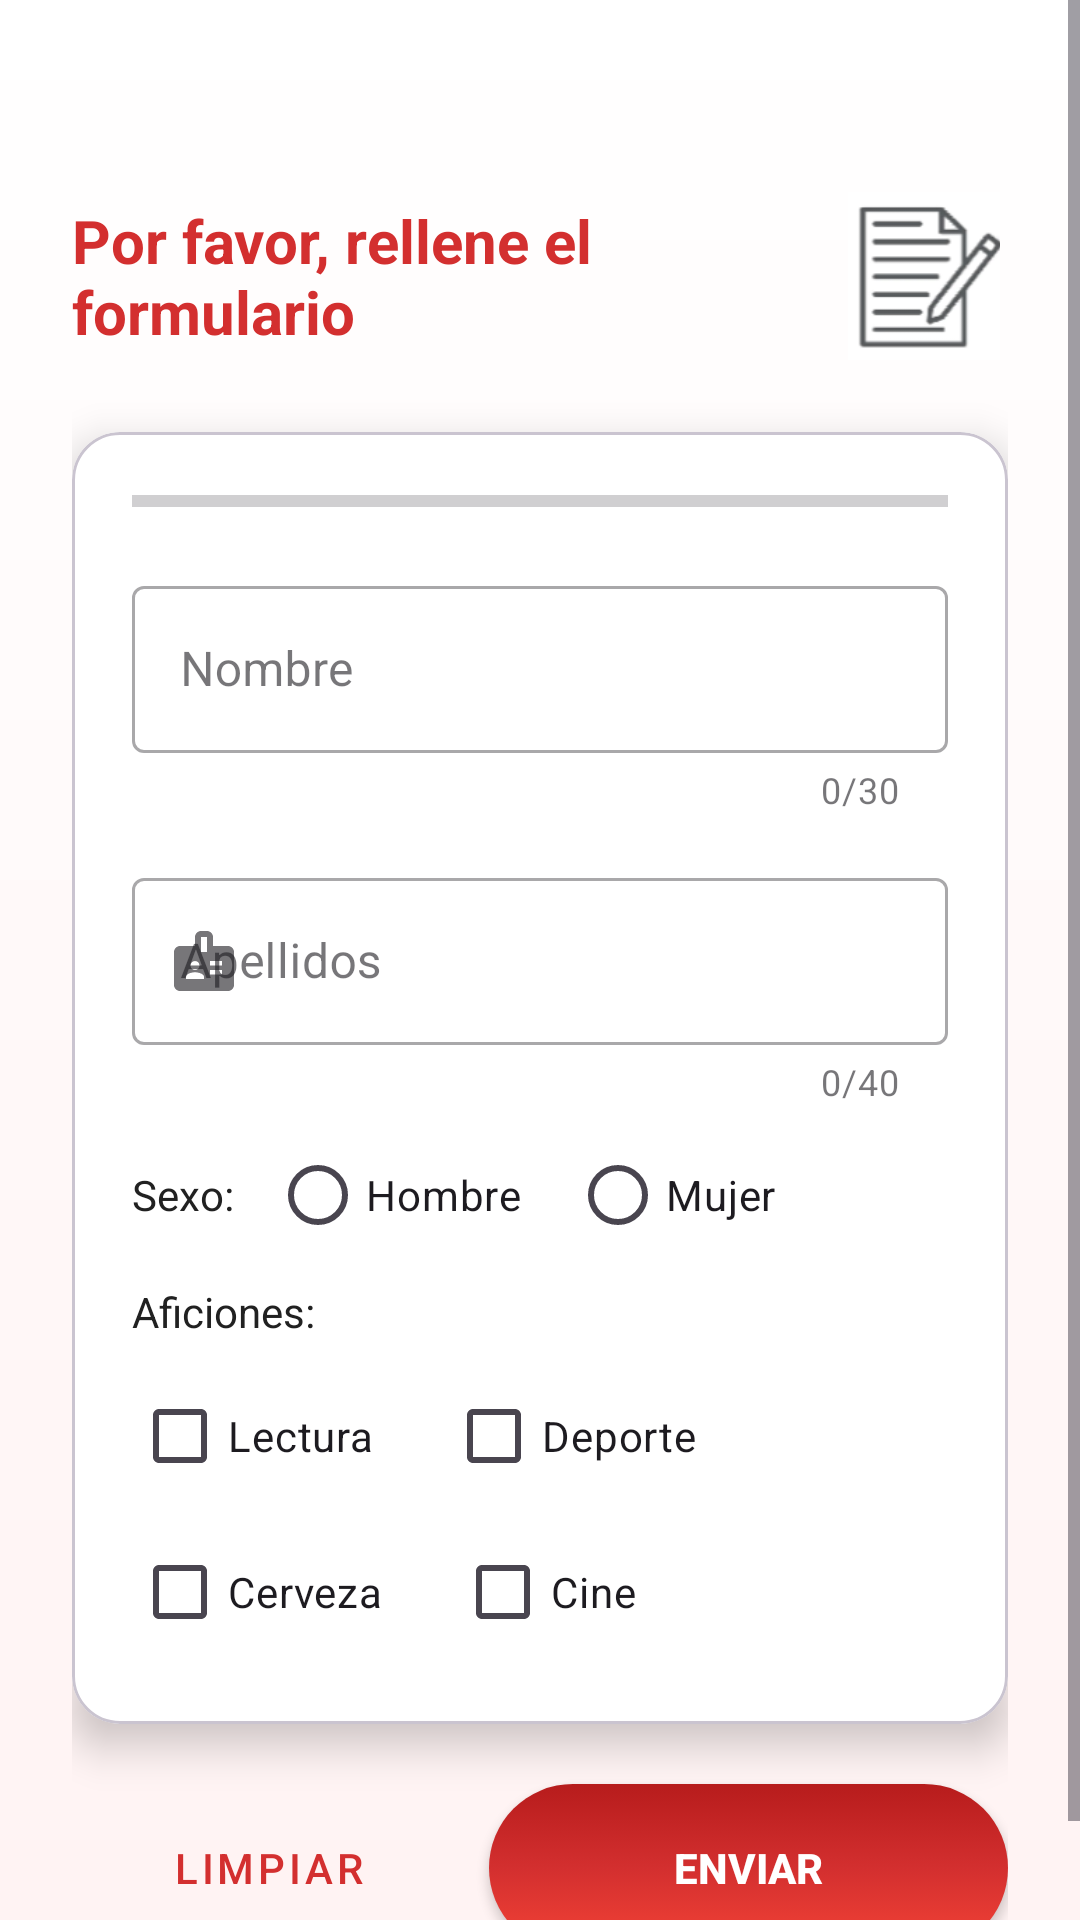

Icons on this 1080px x 1920px Android screen, each with the point to tap as point (x, y):
Icono del Formulario: point (929, 277)
